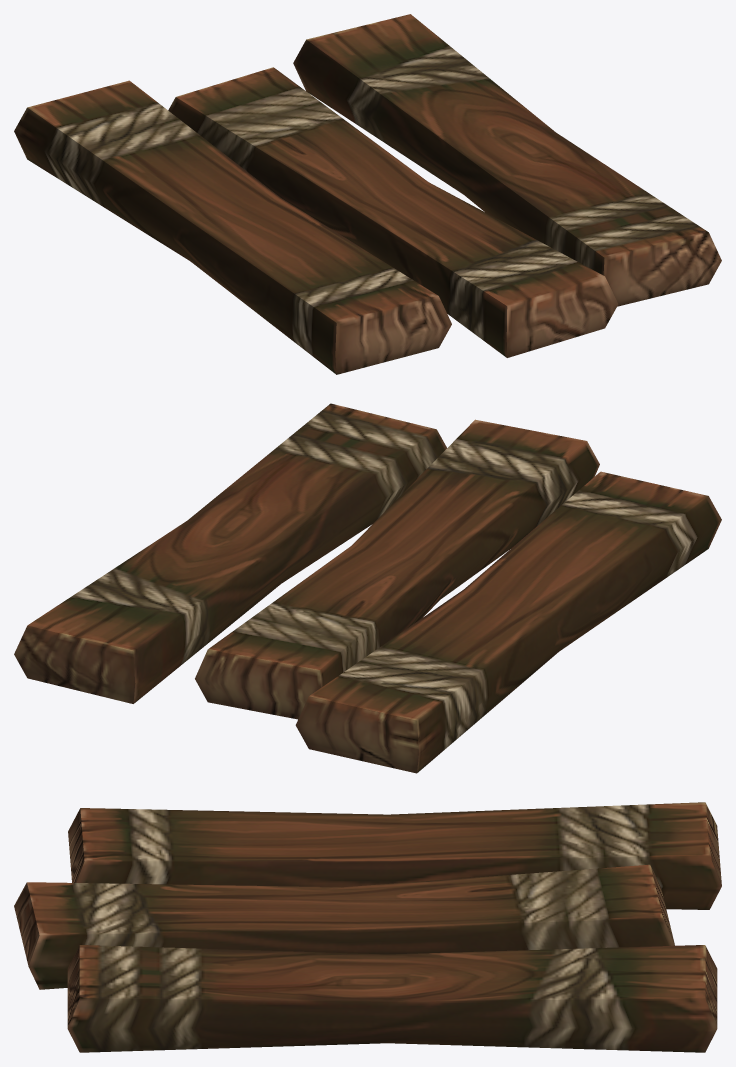
File: rope_bridge_module02.fbx
3 renders of one model, top to bottom at view 1: azimuth 30°, elevation 25°; view 2: azimuth 150°, elevation 25°; view 3: azimuth 270°, elevation 25°, orthographic. The views are drawn at different scales.
Visible parts, largest first — view 1: rope_bridge_module02; view 2: rope_bridge_module02; view 3: rope_bridge_module02.
Part boxes in pixels (x1,y1,x2,y2): rope_bridge_module02: (14, 14, 721, 374); rope_bridge_module02: (14, 403, 721, 773); rope_bridge_module02: (14, 802, 721, 1052).
Bounding box in the file's own units: 97.59 × 12.17 × 143.
